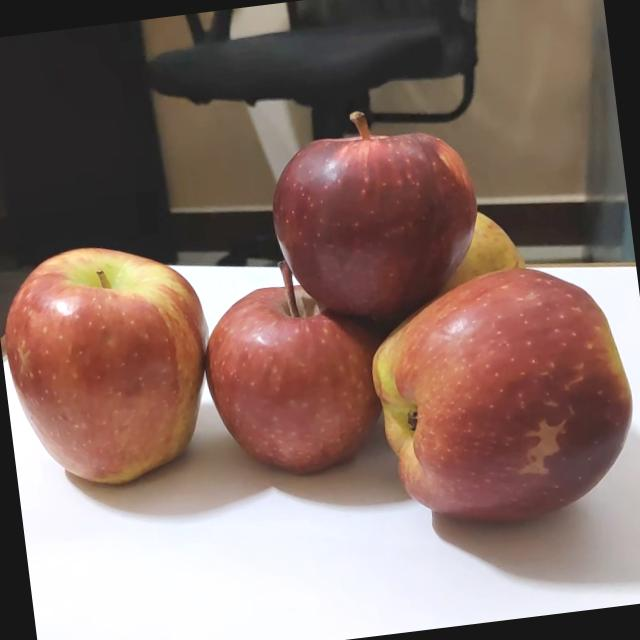apple: (349, 254, 640, 548), (0, 230, 222, 491), (252, 93, 488, 332), (192, 247, 396, 488), (380, 189, 547, 312)
